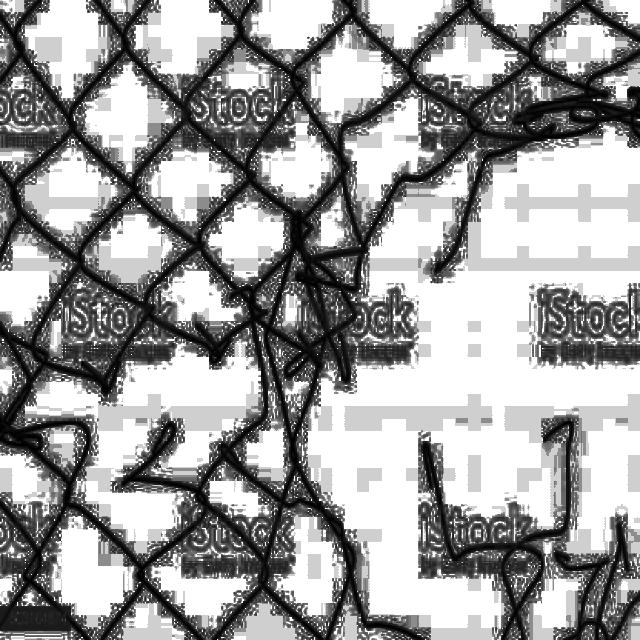anomaly-fence: (4, 55, 640, 638)
